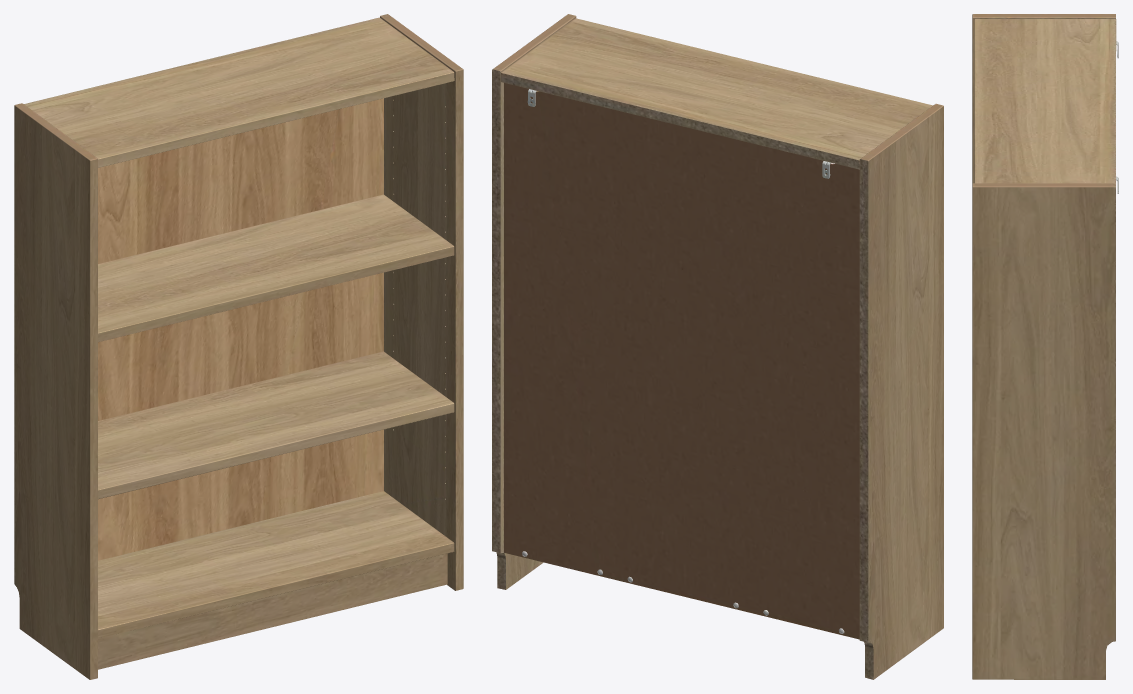
The model's file is BILLY bookcase - oak effect.glb.
The picture shows the model from 3 angles, left to right: view 1: azimuth 30°, elevation 25°; view 2: azimuth 150°, elevation 25°; view 3: azimuth 270°, elevation 25°; orthographic projection. The views are drawn at different scales.
Visible parts, largest first — view 1: 90477385-BILLY001; view 2: 90477385-BILLY001; view 3: 90477385-BILLY001.
Boxes of the visible parts, x1,y1,x2,y2 form: 90477385-BILLY001: [14, 14, 463, 679]; 90477385-BILLY001: [492, 14, 943, 679]; 90477385-BILLY001: [972, 14, 1118, 679].
Bounding box in the file's own units: 0.7981 × 1.06 × 0.2848.
Materials: 1 (1 with a texture image).
